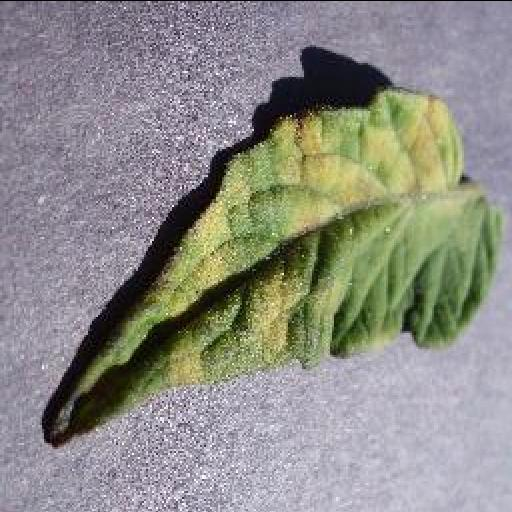disease_tomato: (44, 86, 500, 448)
